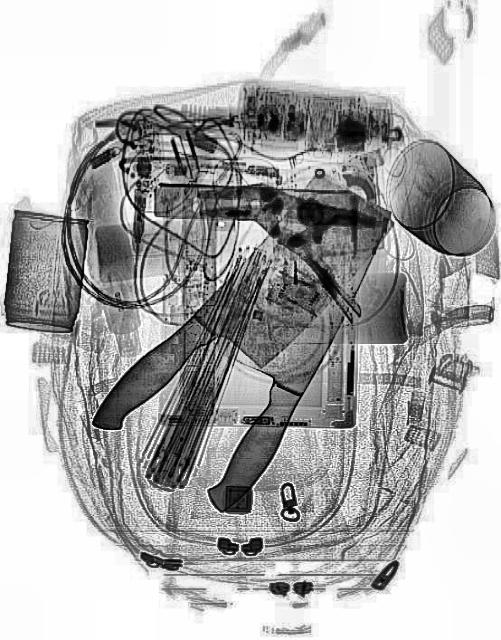Knife: (84, 145, 402, 492), (156, 157, 398, 525)
